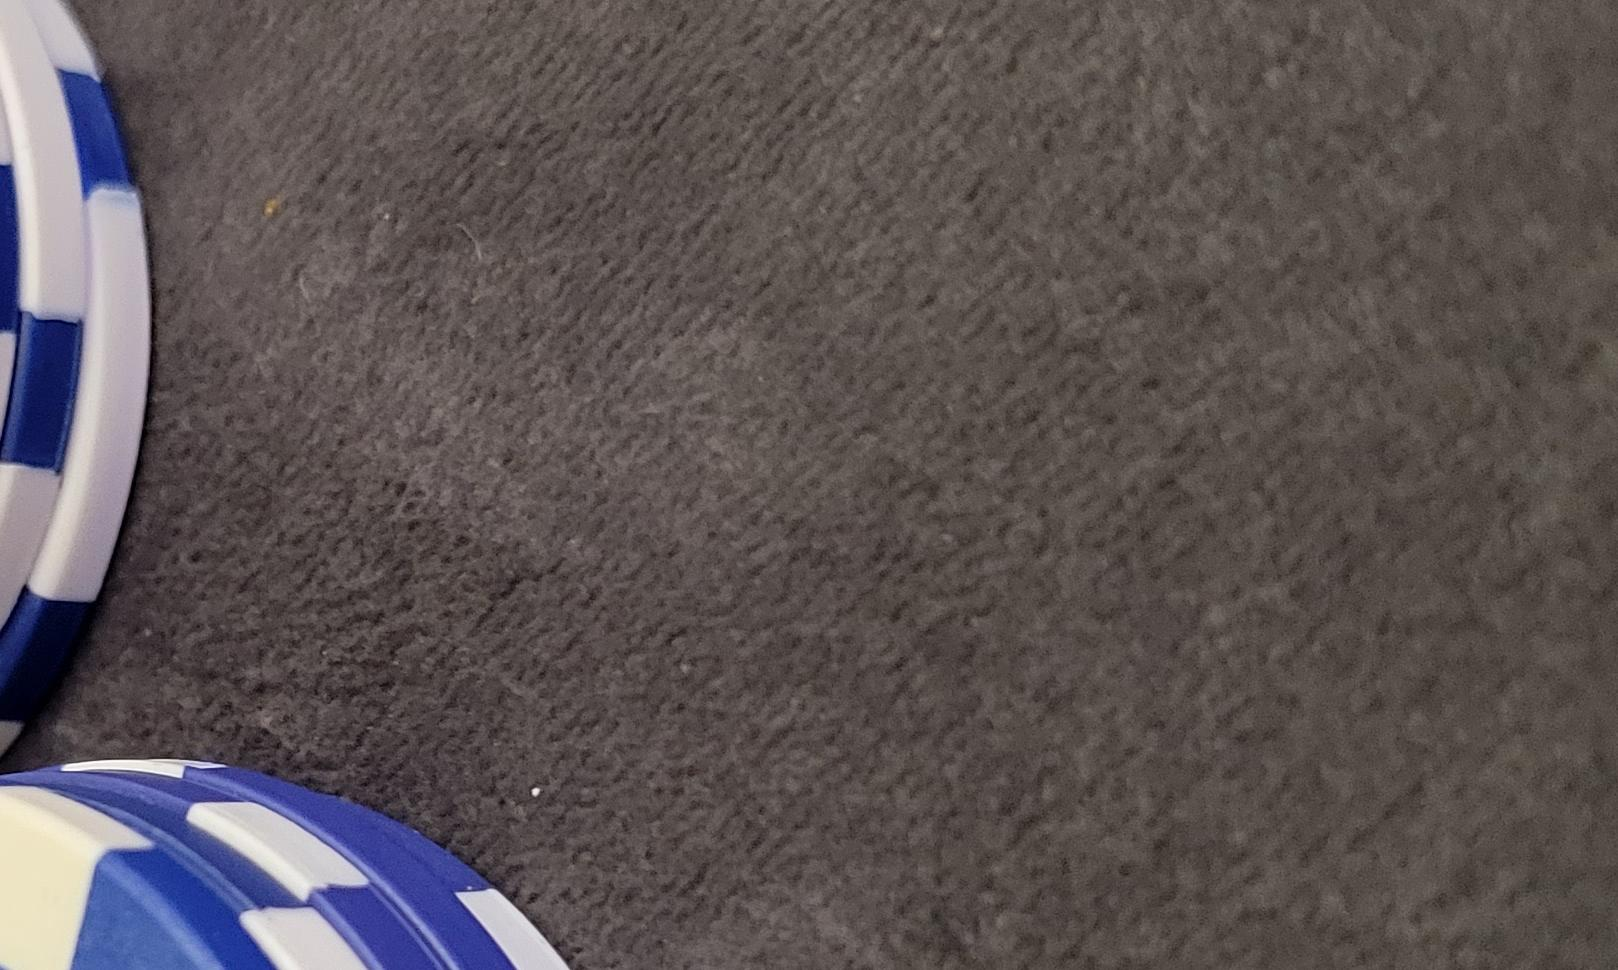Chip: (1, 241, 730, 970)
